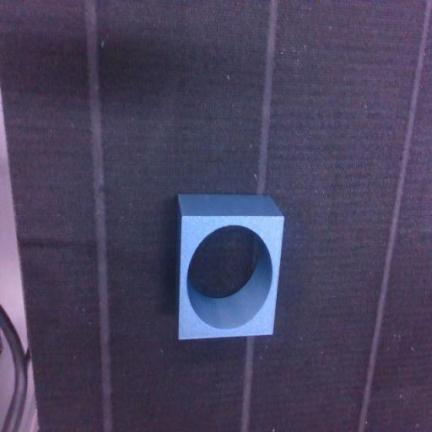hole: (178, 195, 284, 339)
